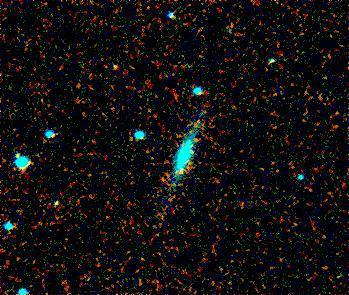star: (3, 141, 33, 171)
